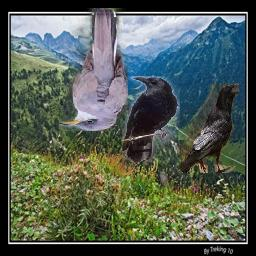Crow: (177, 83, 239, 173), (122, 76, 180, 162)
Cuckoo: (60, 9, 129, 132)
